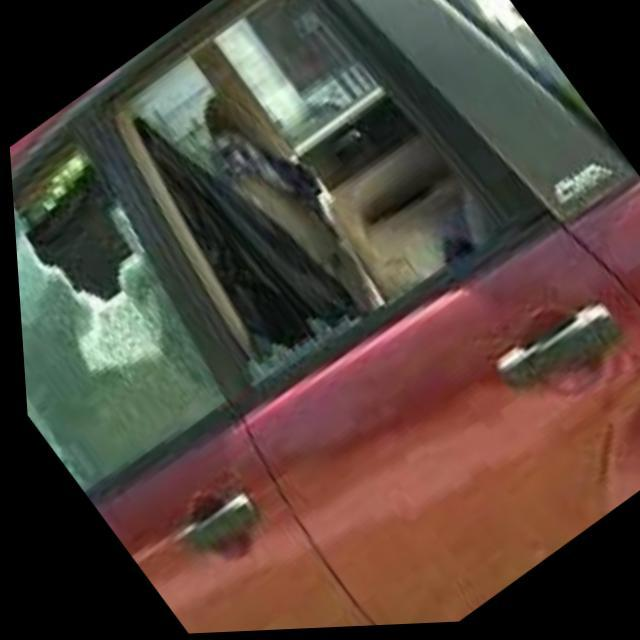glass shatter: (8, 0, 537, 501)
